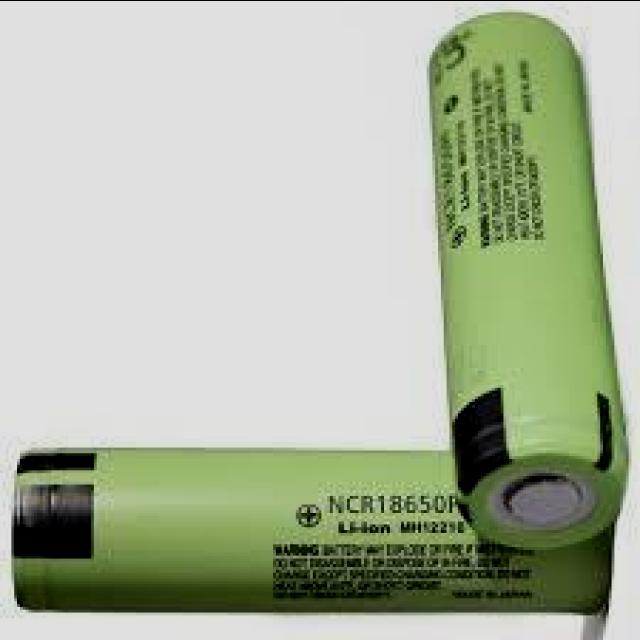AA: (424, 9, 632, 554), (10, 442, 616, 620)
